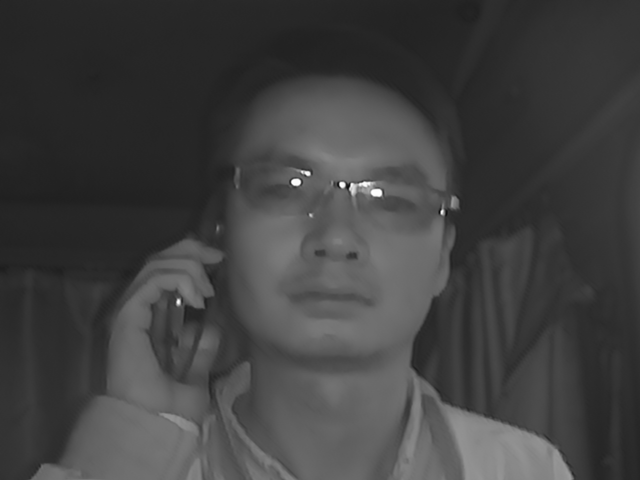hand: (96, 235, 228, 417)
